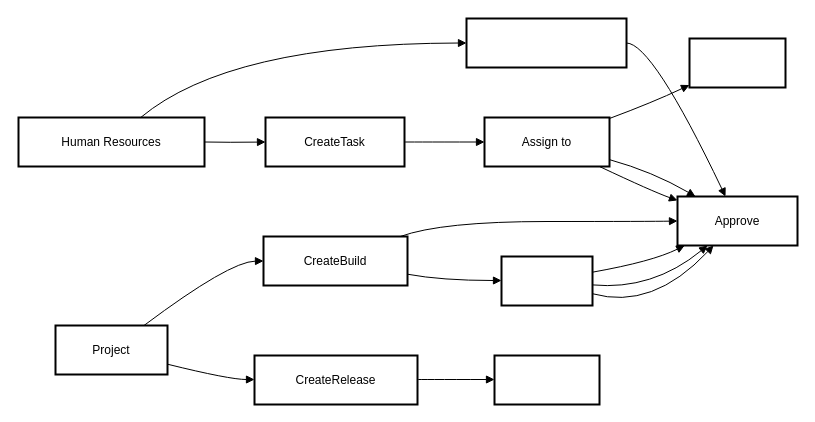
Image size: 815x422. Some labels were removed from this diagram. Each missing label, with the box of its shape:
CreateProject: (465, 17, 627, 68)
Notify: (493, 354, 600, 405)
Start: (688, 37, 786, 88)
Test: (500, 255, 593, 306)
